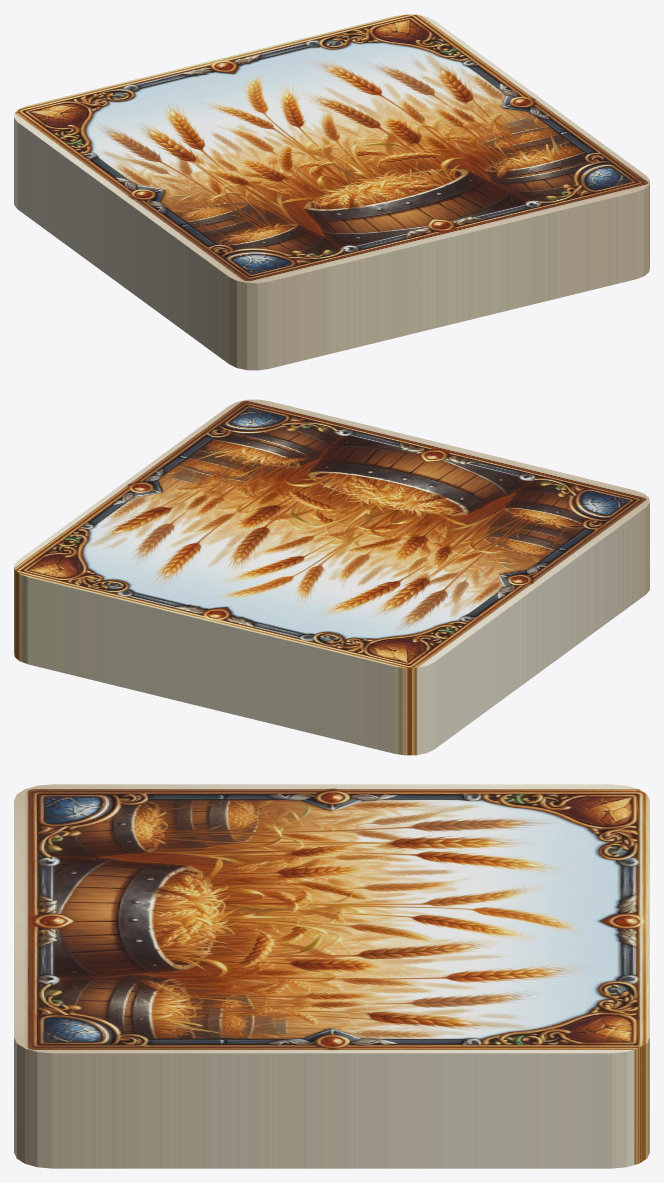
File: wheat-field.glb
3 views of the same model, one above another, from view 1: azimuth 30°, elevation 25°; view 2: azimuth 150°, elevation 25°; view 3: azimuth 270°, elevation 25° (orthographic). The views are drawn at different scales.
Visible parts, largest first — view 1: Cube; view 2: Cube; view 3: Cube.
Boxes of the visible parts, box(x1,y1,x2,y2) form: Cube: box(14, 14, 649, 370); Cube: box(14, 399, 649, 755); Cube: box(14, 784, 649, 1168).
Size of the model in its own units: 1 by 0.2 by 1.
Materials: 1 (1 with a texture image).
